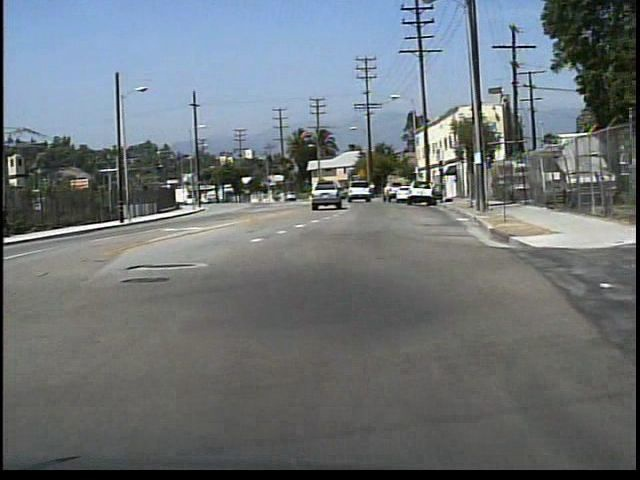person: (2, 201, 21, 241)
